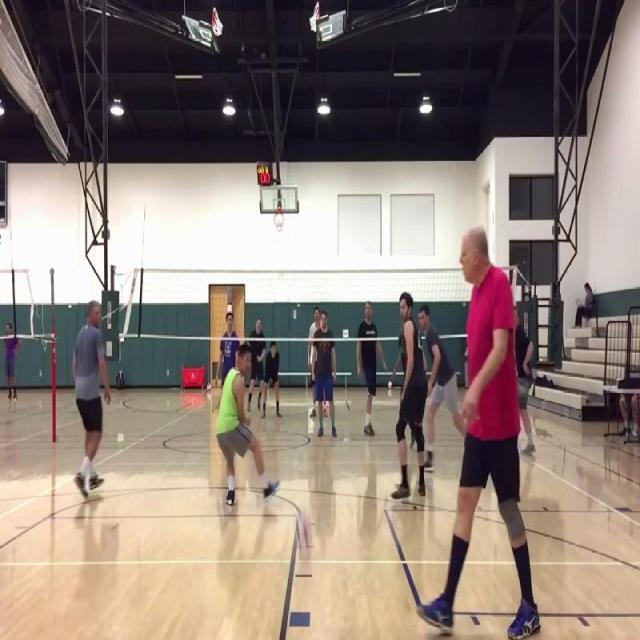volleyball: (294, 514, 310, 545)
